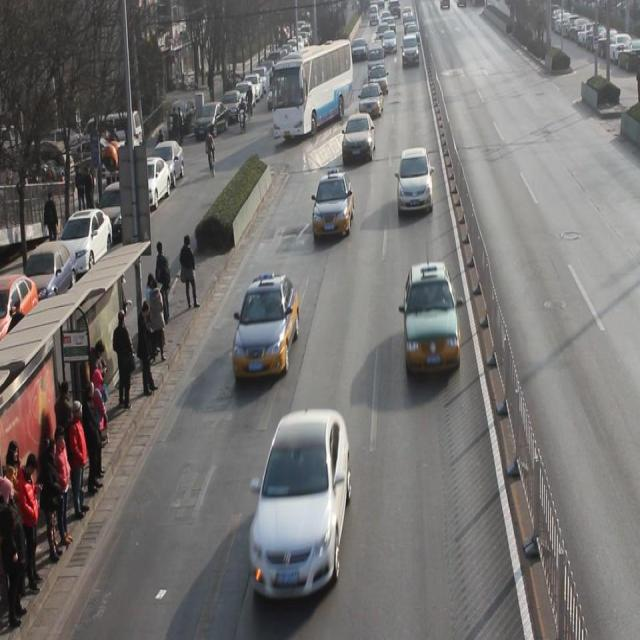car: (249, 407, 351, 598), (233, 275, 300, 382), (403, 263, 461, 375), (313, 172, 354, 240), (397, 148, 434, 218), (343, 114, 376, 166), (358, 84, 384, 120), (368, 66, 389, 95)
van: (270, 42, 354, 137)
